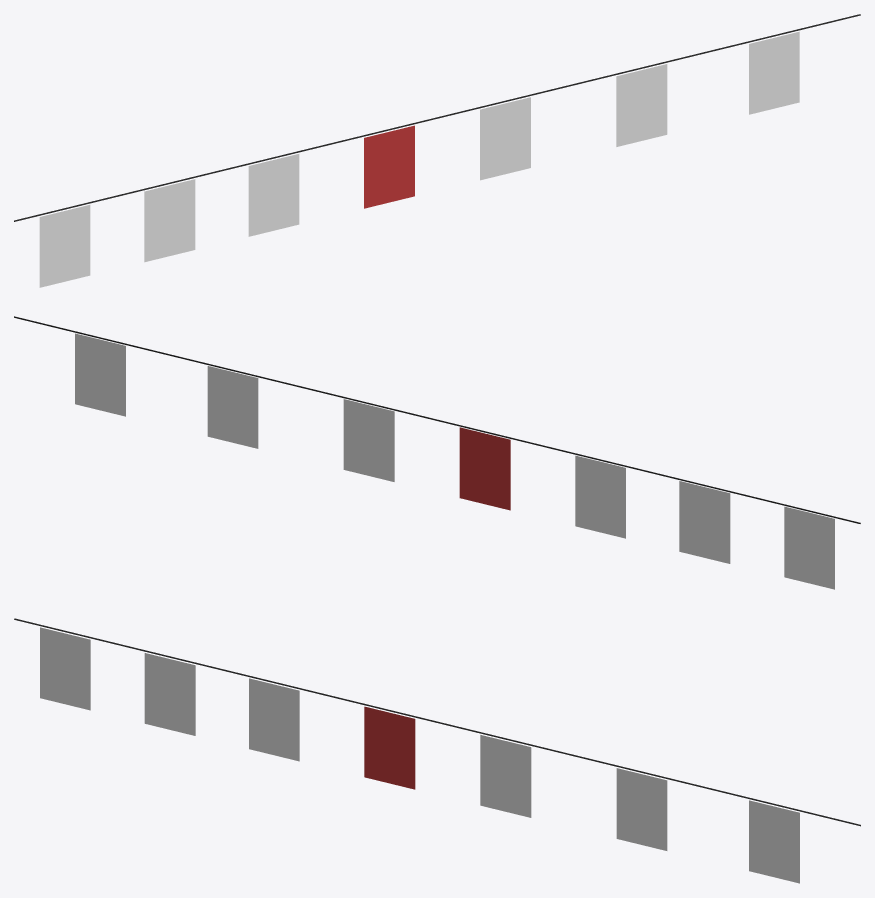
The model's file is Waesche_1.glb.
The picture shows the model from 3 angles, top to bottom: view 1: azimuth 30°, elevation 25°; view 2: azimuth 150°, elevation 25°; view 3: azimuth 330°, elevation 25°; orthographic projection.
Parts seen in each view (by area): view 1: Waesche_1; view 2: Waesche_1; view 3: Waesche_1.
Part boxes in pixels (<box>): Waesche_1: <box>14,14,860,287</box>; Waesche_1: <box>14,316,860,589</box>; Waesche_1: <box>14,618,860,883</box>.
Size of the model in its own units: 10 by 0.8287 by 0.015.
